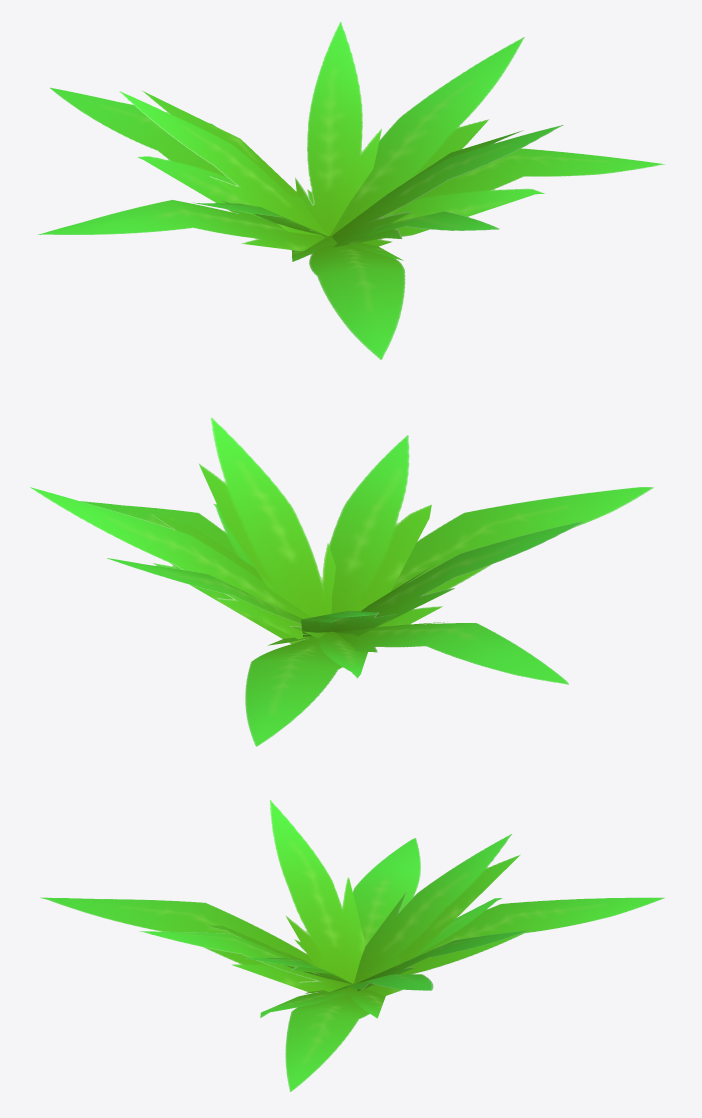
The model's file is SmallPlant01.fbx.
3 views of the same model, one above another, from view 1: azimuth 30°, elevation 25°; view 2: azimuth 150°, elevation 25°; view 3: azimuth 270°, elevation 25° (orthographic). The views are drawn at different scales.
Parts seen in each view (by area): view 1: Plane.008; view 2: Plane.008; view 3: Plane.008.
Boxes of the visible parts, bbox=[...] form: Plane.008: bbox=[37, 22, 664, 359]; Plane.008: bbox=[30, 417, 653, 746]; Plane.008: bbox=[40, 800, 664, 1091].
Bounding box in the file's own units: 218 × 44.82 × 244.
